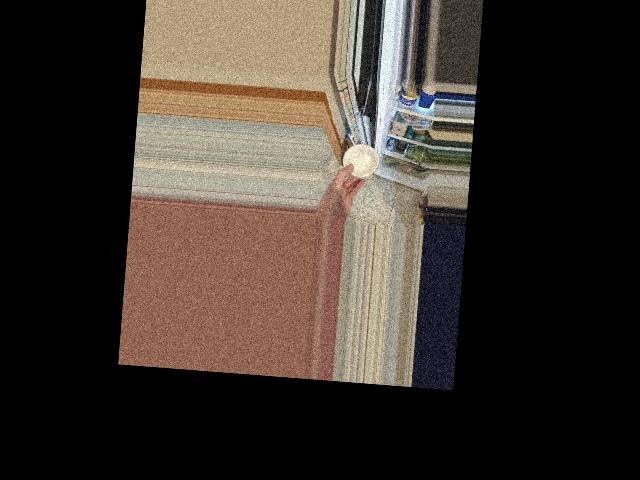cotage: (343, 140, 380, 178)
